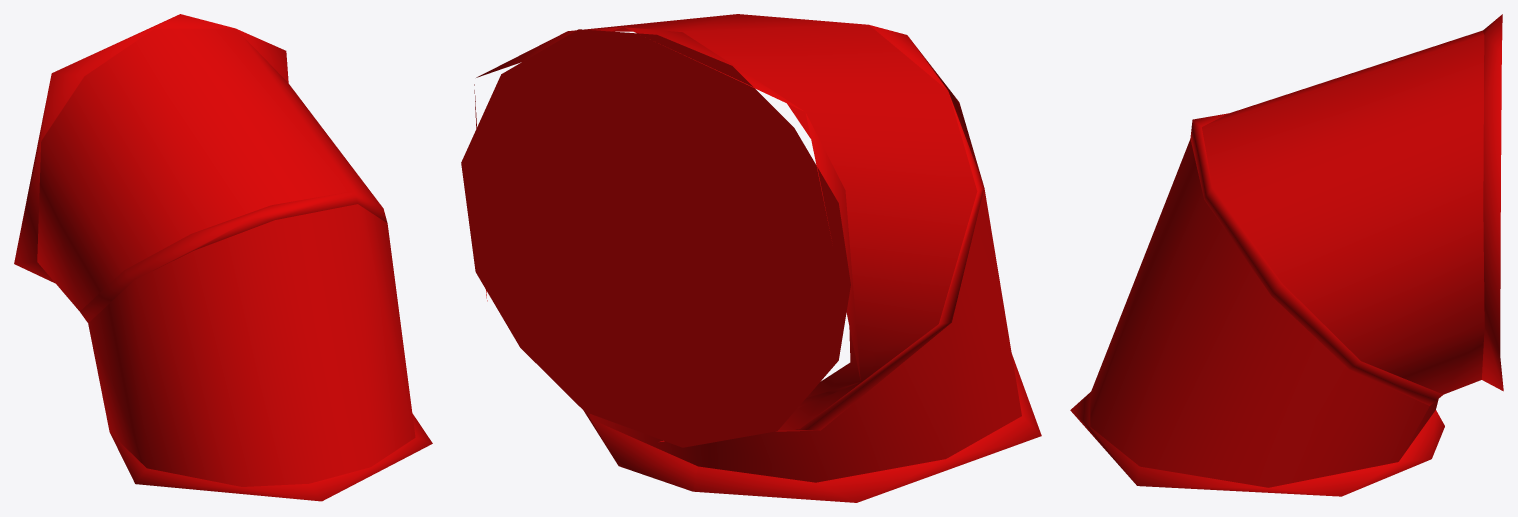
3 views of the same model, side by side, from view 1: azimuth 30°, elevation 25°; view 2: azimuth 150°, elevation 25°; view 3: azimuth 270°, elevation 25° (orthographic). The views are drawn at different scales.
Visible parts, largest first — view 1: Mesh; view 2: Mesh; view 3: Mesh.
Boxes of the visible parts, x1=… form: Mesh: x1=14, y1=14, x2=432, y2=501; Mesh: x1=461, y1=14, x2=1041, y2=502; Mesh: x1=1070, y1=14, x2=1503, y2=496.
Bounding box in the file's own units: 0.4398 × 0.5008 × 0.5081.
